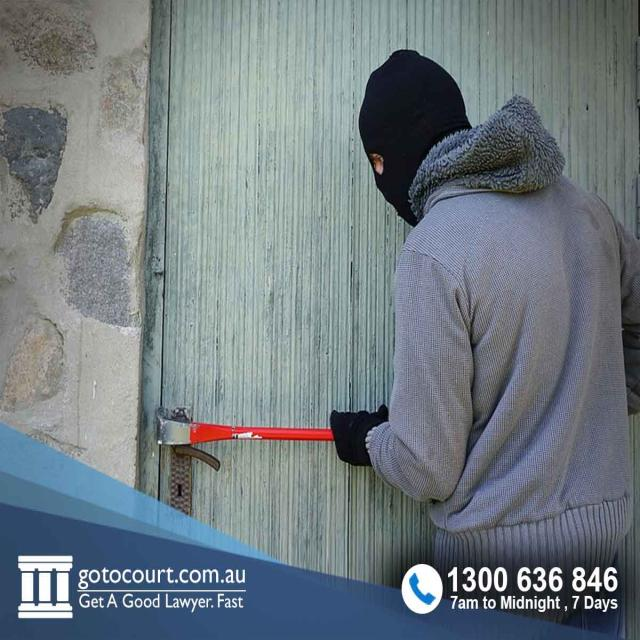intrusion detected: (311, 42, 640, 563)
